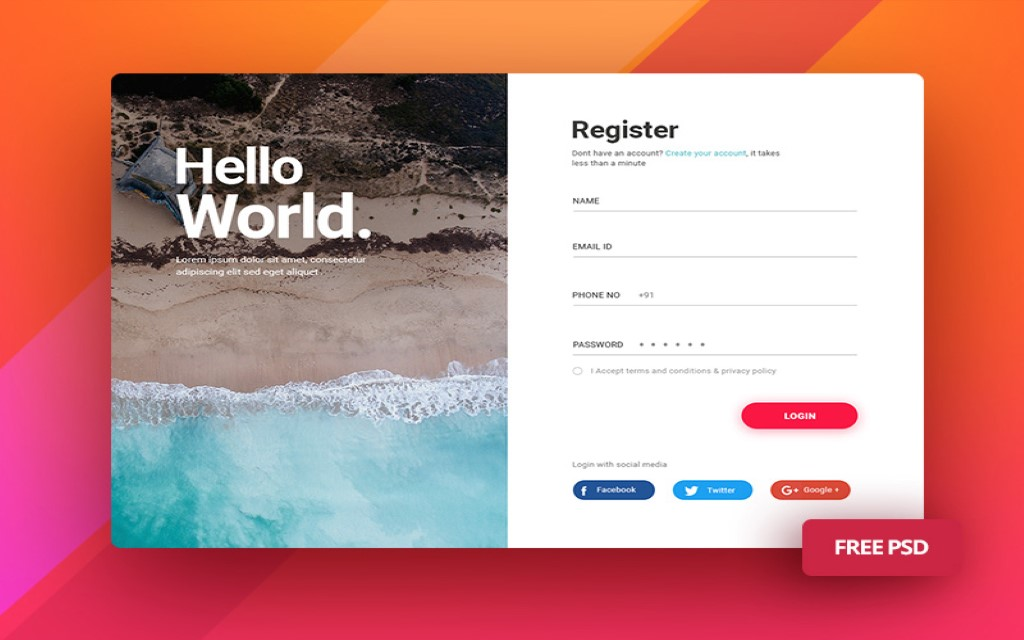button: (742, 403, 858, 429), (573, 480, 655, 501), (674, 481, 752, 501), (771, 481, 849, 499)
label_email: (572, 241, 604, 251)
label_password: (573, 338, 624, 351)
textbox: (570, 334, 853, 356), (570, 284, 851, 304), (570, 190, 847, 210), (569, 238, 850, 257)
